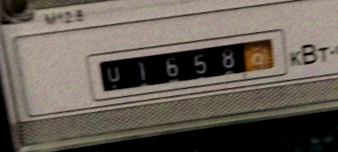0: (102, 61, 122, 84)
1: (131, 57, 149, 83)
5: (189, 50, 209, 77)
6: (160, 53, 182, 80)
8: (217, 46, 237, 70)
9: (247, 50, 266, 73)
screen: (81, 21, 293, 110)
